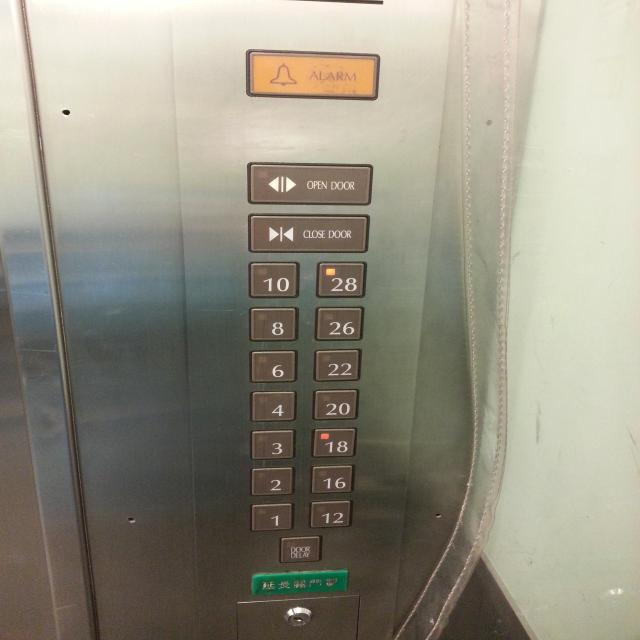1: (248, 500, 296, 532)
10: (248, 258, 302, 300)
12: (308, 497, 354, 530)
16: (309, 463, 355, 496)
18: (310, 425, 358, 459)
2: (249, 465, 296, 497)
20: (311, 386, 359, 422)
22: (312, 347, 363, 382)
26: (314, 304, 366, 343)
28: (314, 258, 368, 300)
3: (248, 427, 298, 462)
4: (248, 388, 298, 424)
6: (247, 348, 300, 385)
8: (247, 304, 301, 344)
alarm: (243, 48, 382, 104)
close: (245, 211, 371, 255)
keyhole: (284, 605, 313, 629)
open: (245, 159, 374, 208)
text_doordelay: (277, 534, 325, 565)
